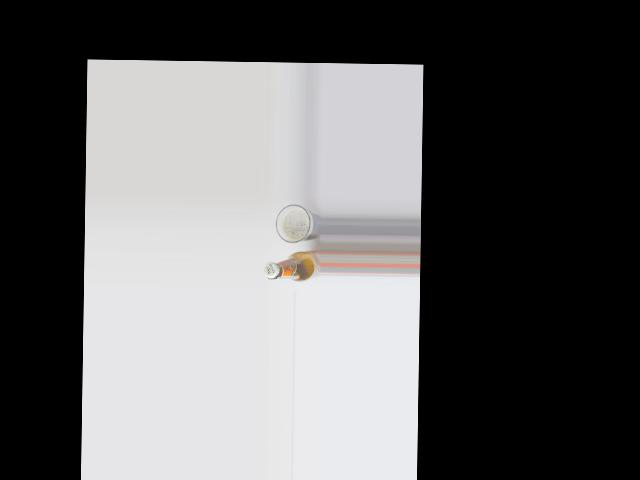beer: (264, 249, 321, 281)
